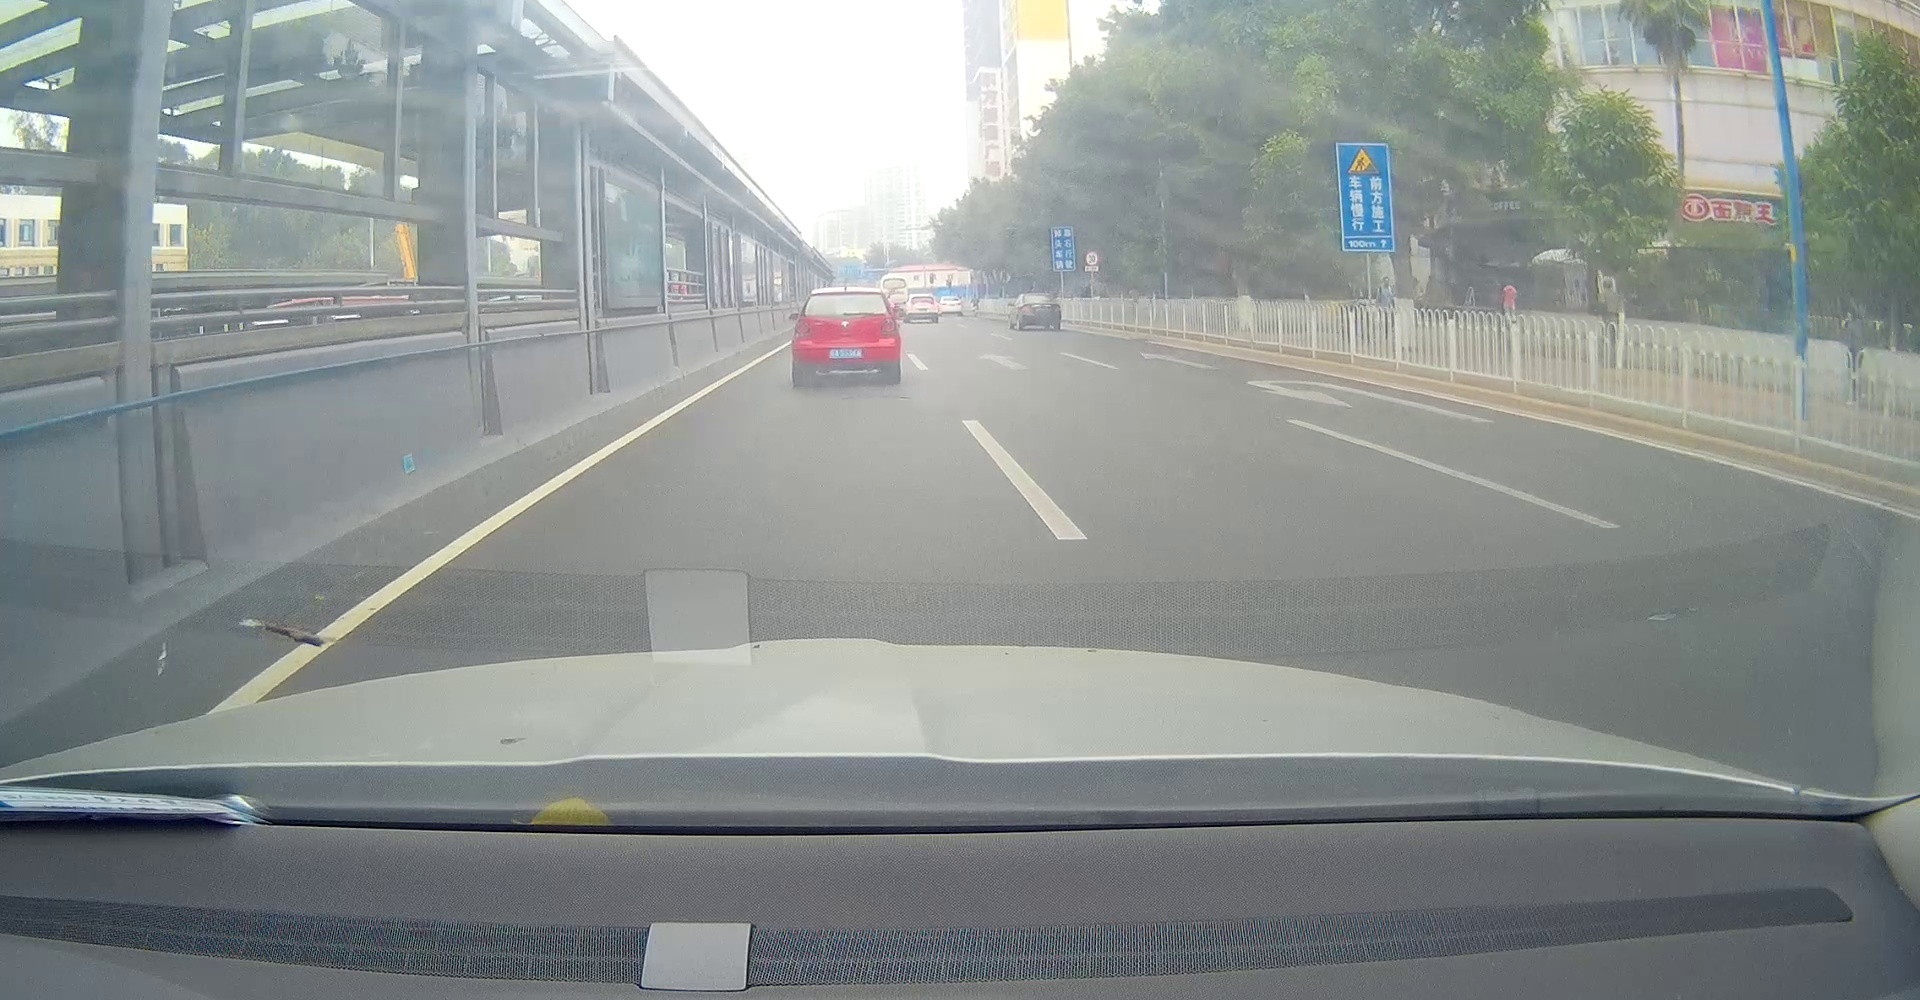L_light: (795, 319, 810, 336)
R_light: (880, 317, 897, 336)
T_light: (842, 293, 855, 297)
day-no: (792, 291, 902, 387)
